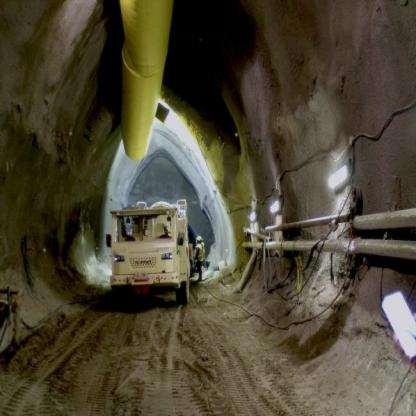dump_truck: (103, 188, 193, 312)
person: (193, 230, 208, 286)
